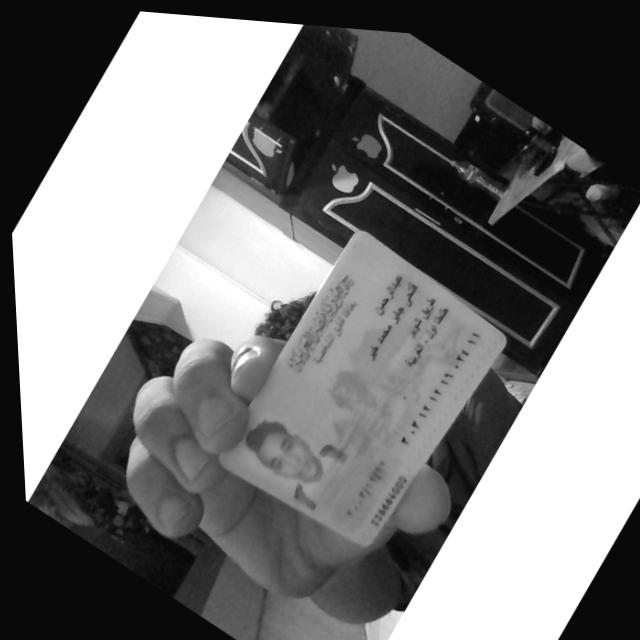front: (218, 231, 504, 546)
